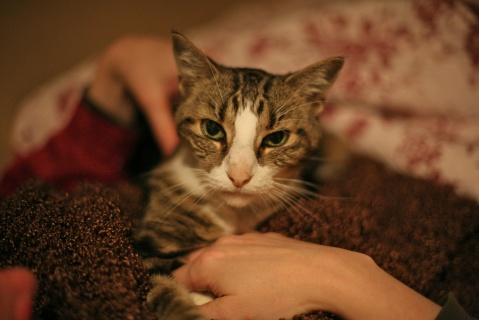Cat: (137, 27, 349, 319)
